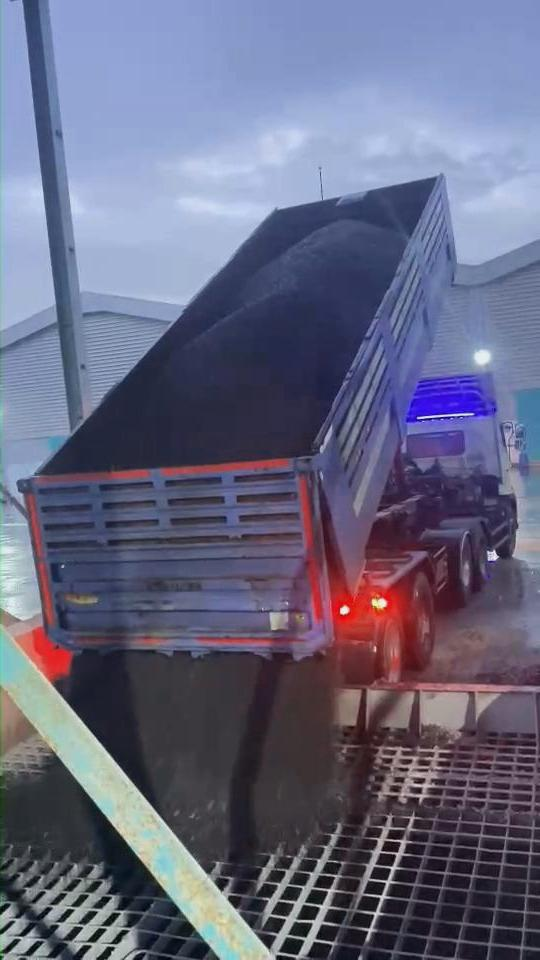gravel: (131, 220, 405, 465), (67, 652, 341, 860), (3, 758, 130, 863)
